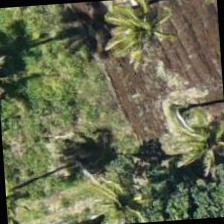Kelapa_Sawit: (97, 0, 193, 76), (71, 152, 167, 223), (159, 99, 223, 195)
